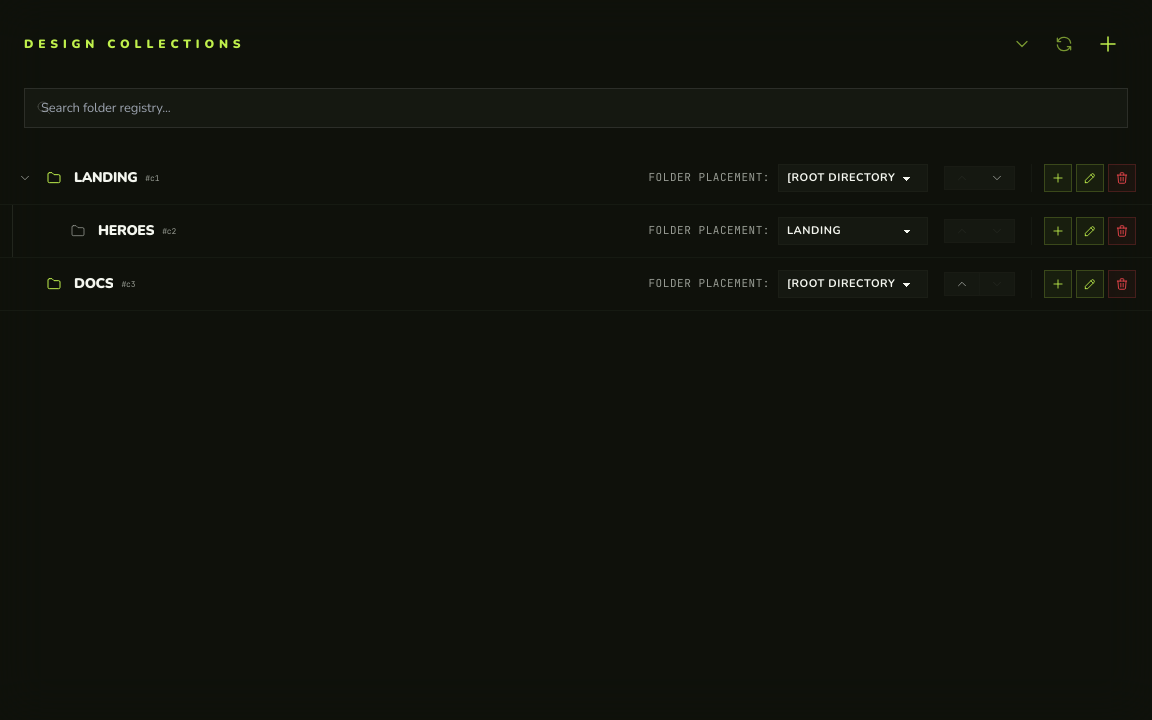
Test: DesignLibrarySection › delete of an empty collection says so
Expected: the text "Docs" is shown, [74,274,113,294]
Click the button titled "Purge Empty or Filled Folder" in the row of "c3".
click(1122, 284)  # box [1108,270,1136,298]
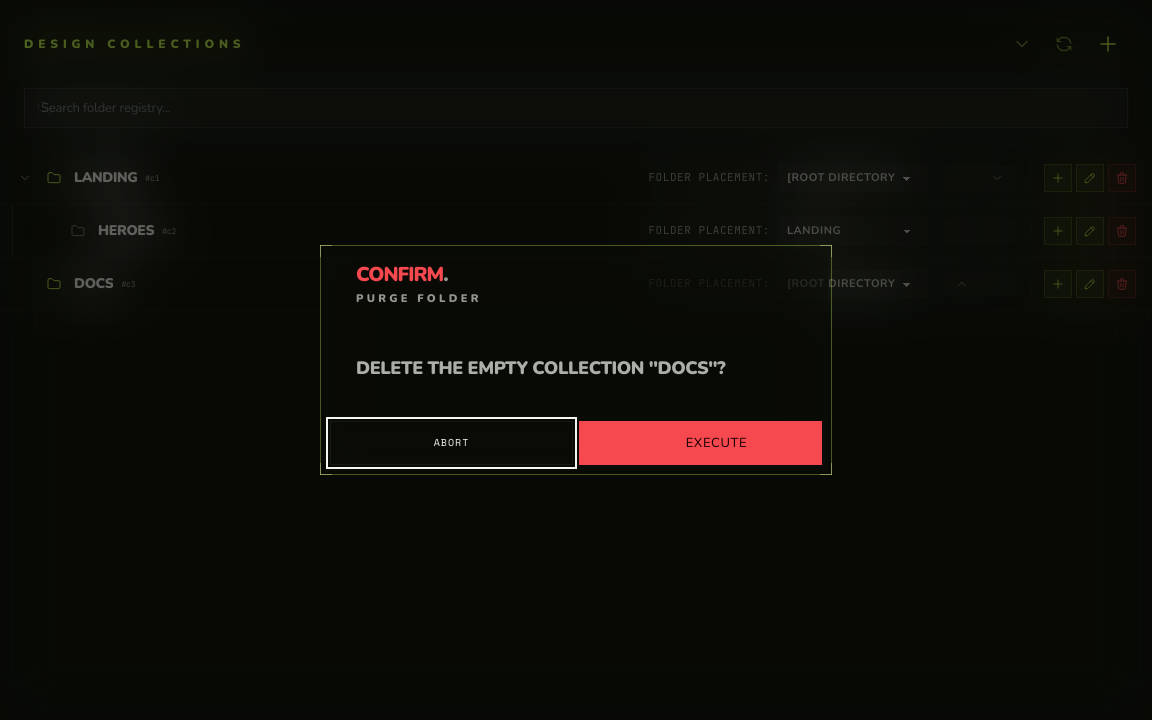
Expected: the text "Delete the empty collection \"Docs\"?" is shown, [356,356,725,380]
